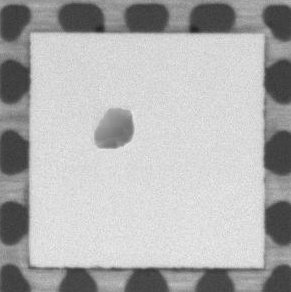DIE_INK: (89, 105, 135, 151)
